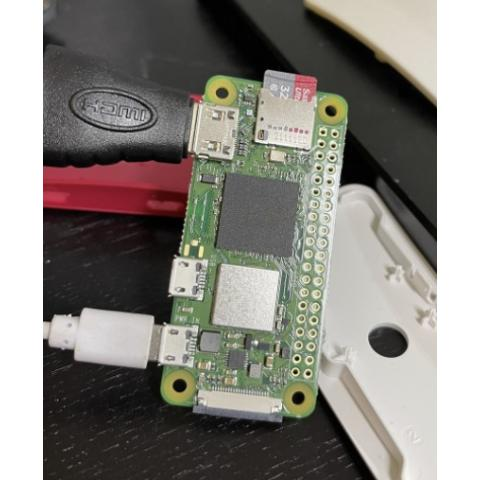Raspberry-Pi-Zero-2-W: (160, 72, 350, 425)
